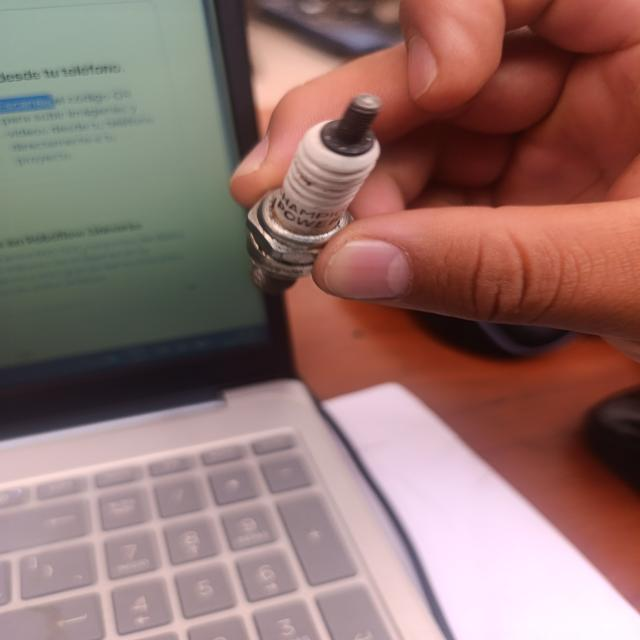bujia: (247, 94, 381, 294)
